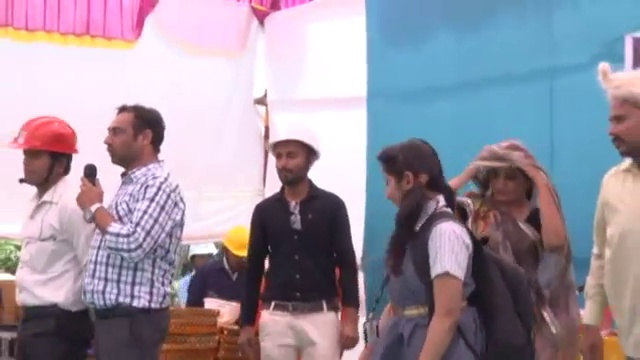helmet: (6, 116, 90, 157), (201, 297, 243, 327), (220, 227, 254, 259), (188, 241, 219, 261)
helmet_off: (371, 140, 452, 218), (97, 108, 167, 174), (481, 146, 538, 210), (597, 72, 639, 157)
helmet_on: (8, 117, 85, 196), (265, 119, 326, 201), (220, 227, 255, 278), (188, 240, 221, 281)
person: (233, 112, 359, 360), (73, 109, 189, 360), (361, 142, 485, 360), (1, 111, 95, 358), (455, 147, 577, 308), (580, 72, 640, 360), (186, 228, 256, 327), (168, 233, 224, 311)
